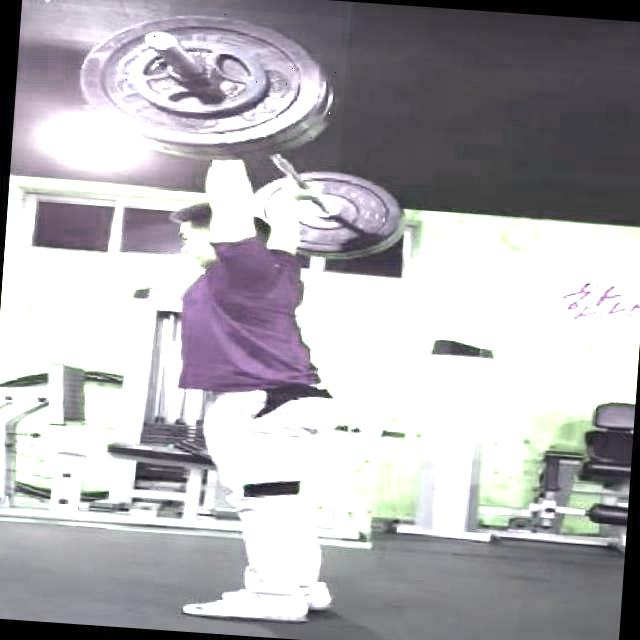barbell: (71, 1, 350, 173)
